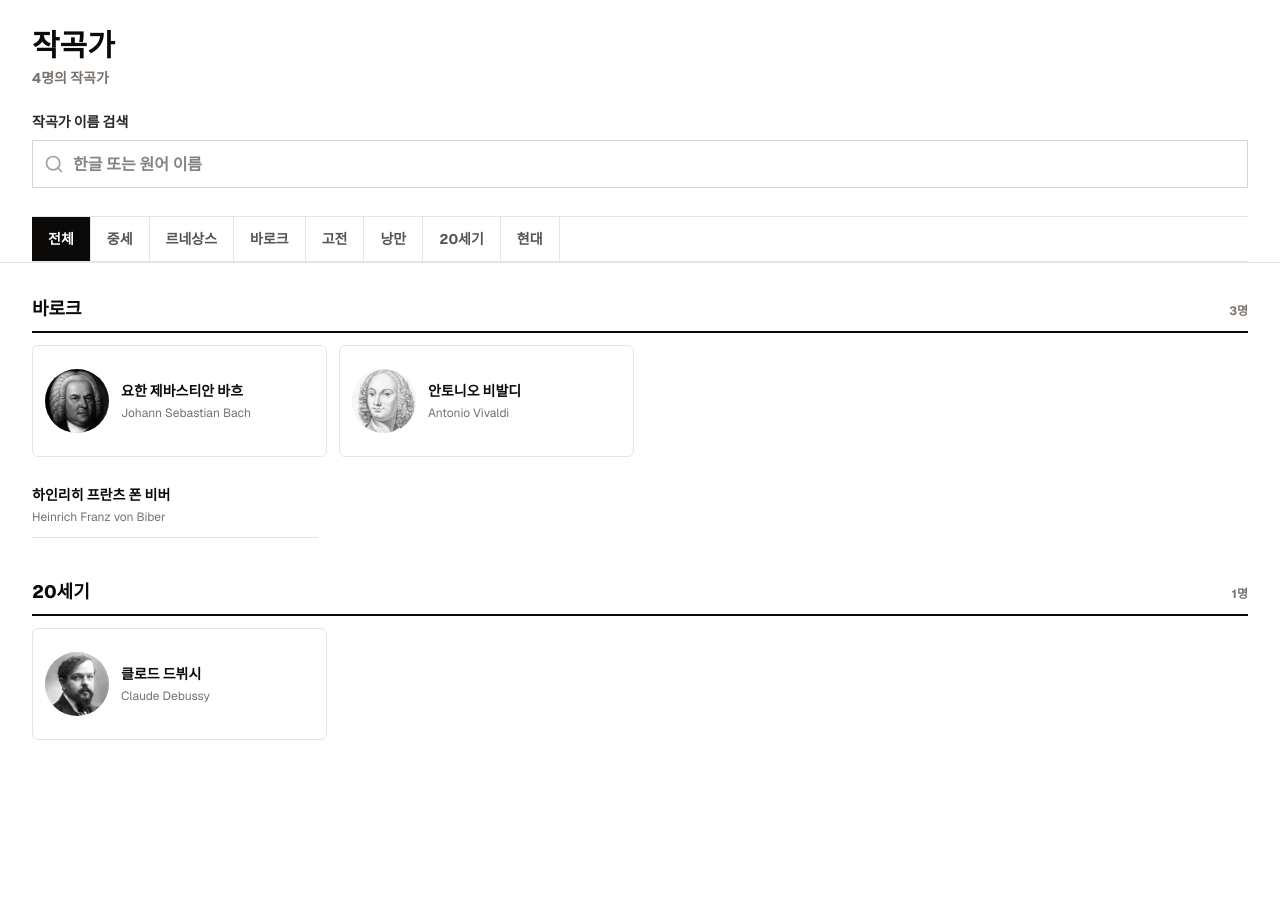
Test: ComposerDirectory › searches and filters without hiding the other period permanently
This screenshot has width=1280, height=900.
In the search field labelled "작곡가 이름 검색": coordinates (640, 164) x1=32 y1=140 x2=1248 y2=188, type "Debussy"
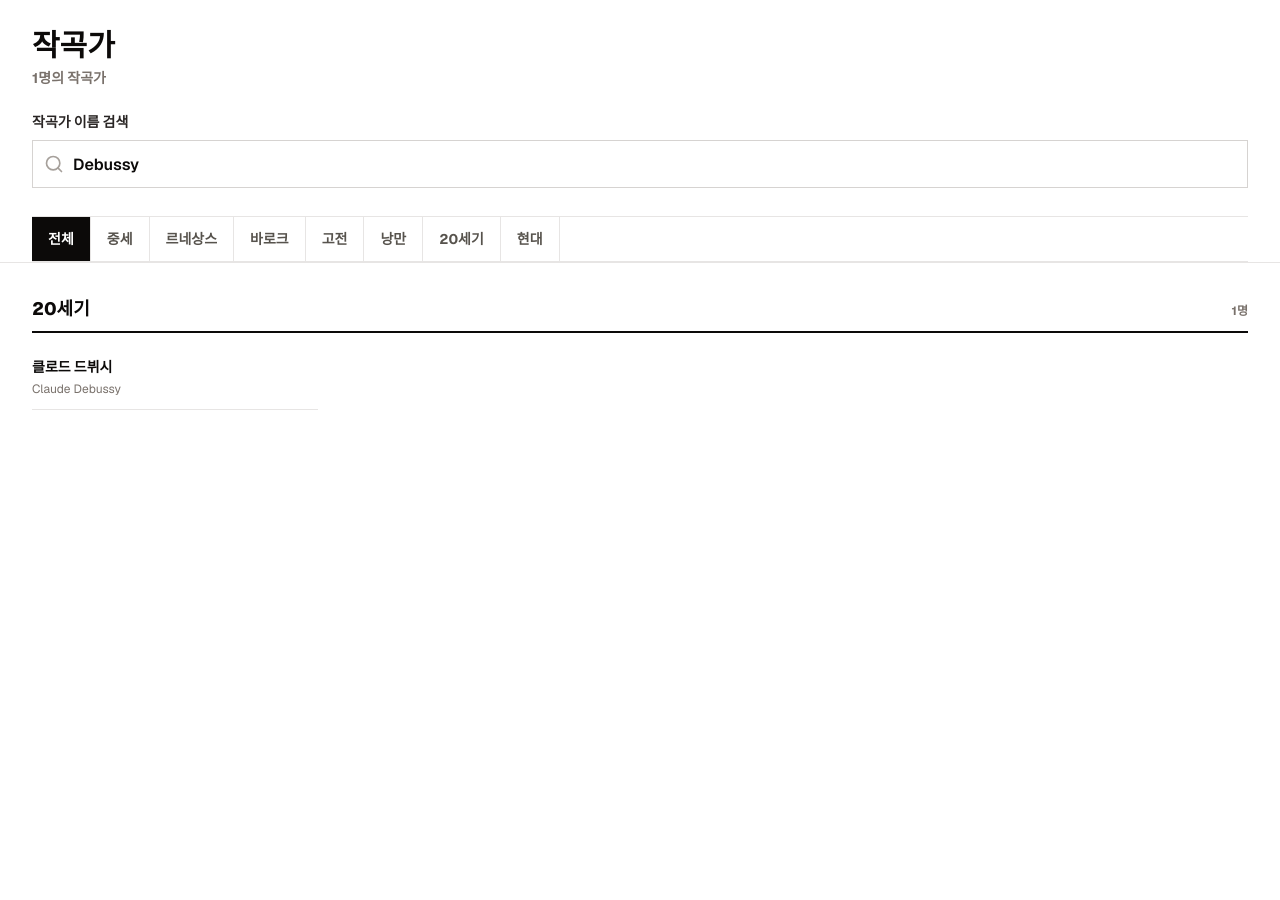
Result: the text "1명의 작곡가" is shown at x1=32 y1=69 x2=106 y2=87
Result: the link "안토니오 비발디" is gone
Clear the search field labelled "작곡가 이름 검색": coordinates (640, 164) x1=32 y1=140 x2=1248 y2=188
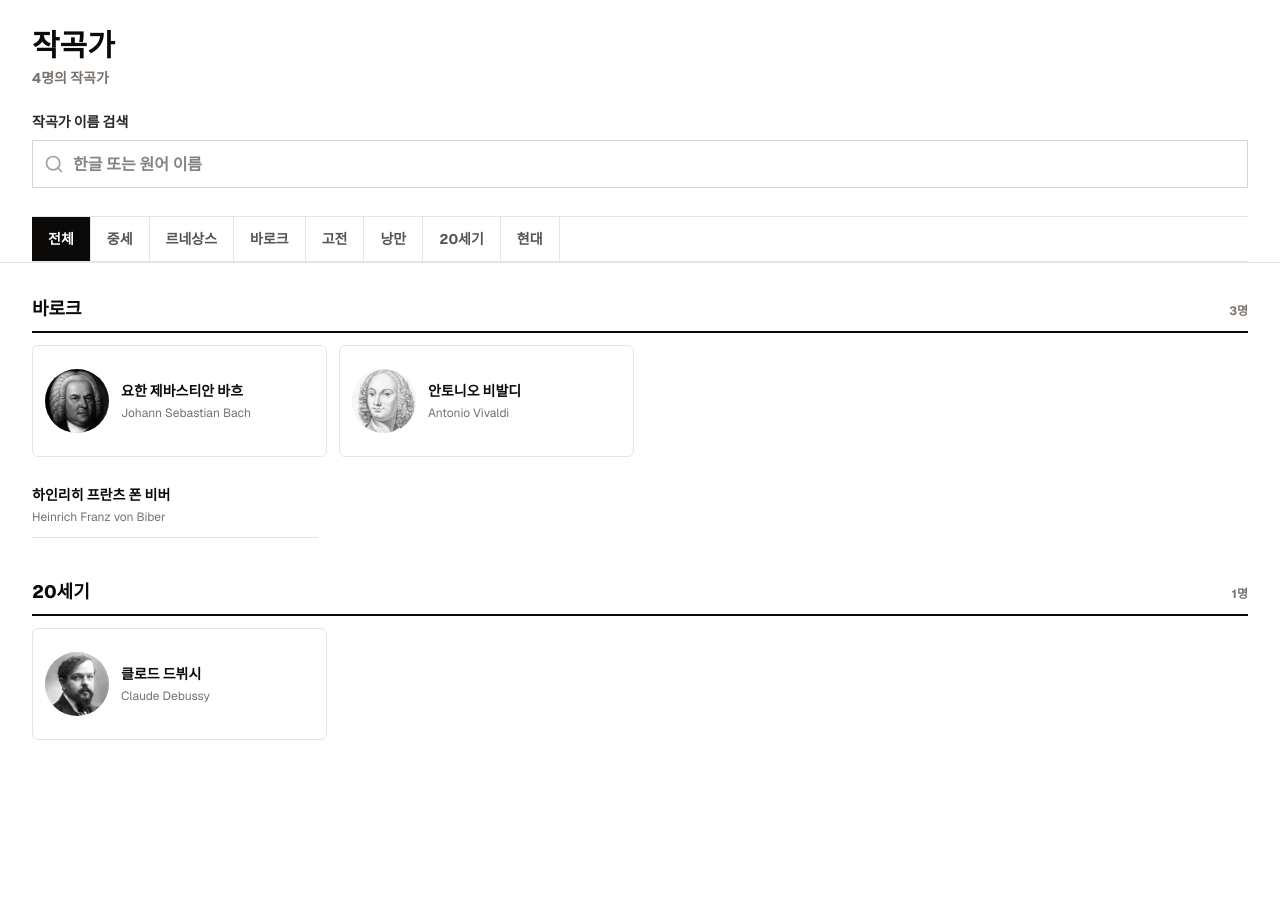
Click the button "바로크": coordinates (270, 239) x1=234 y1=217 x2=306 y2=261
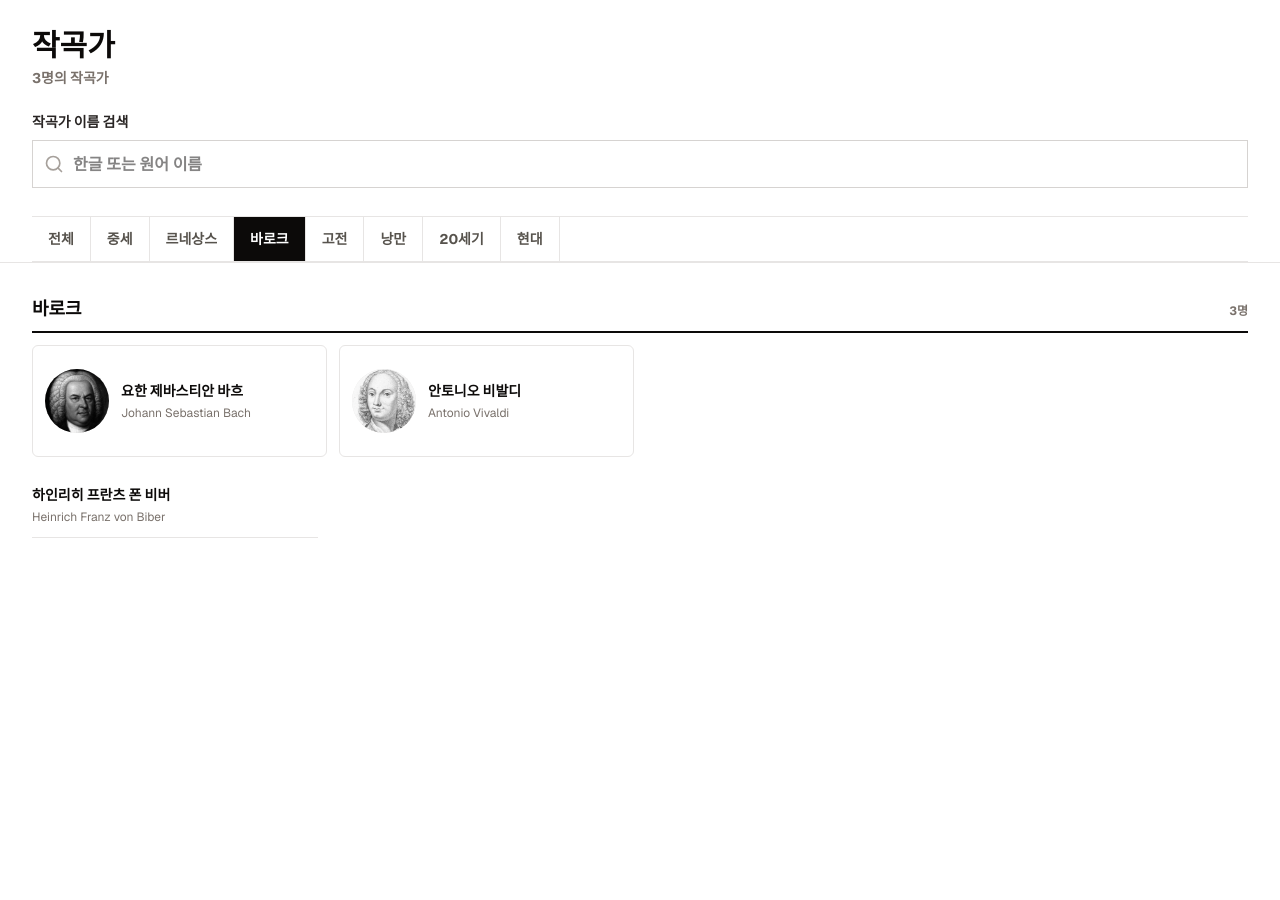
Result: the text "3명의 작곡가" is shown at x1=32 y1=69 x2=109 y2=87
Result: the link "클로드 드뷔시" is gone
